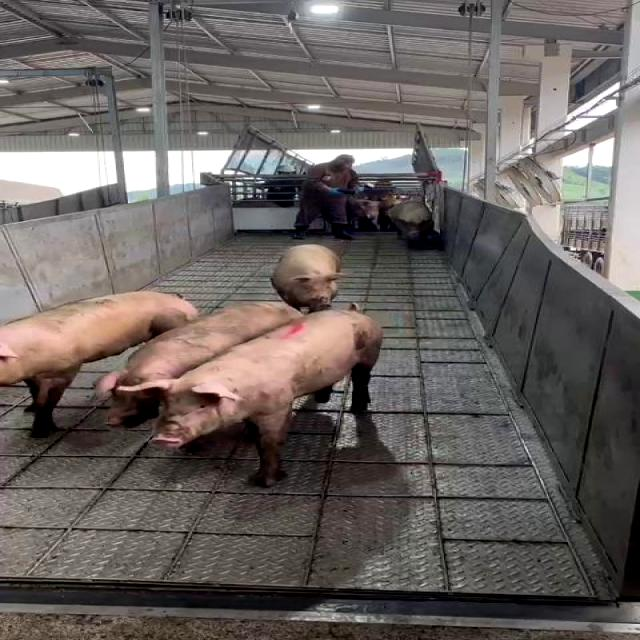pig: (115, 305, 380, 485), (0, 289, 197, 435), (95, 302, 293, 433), (273, 244, 348, 312), (390, 200, 433, 247)
